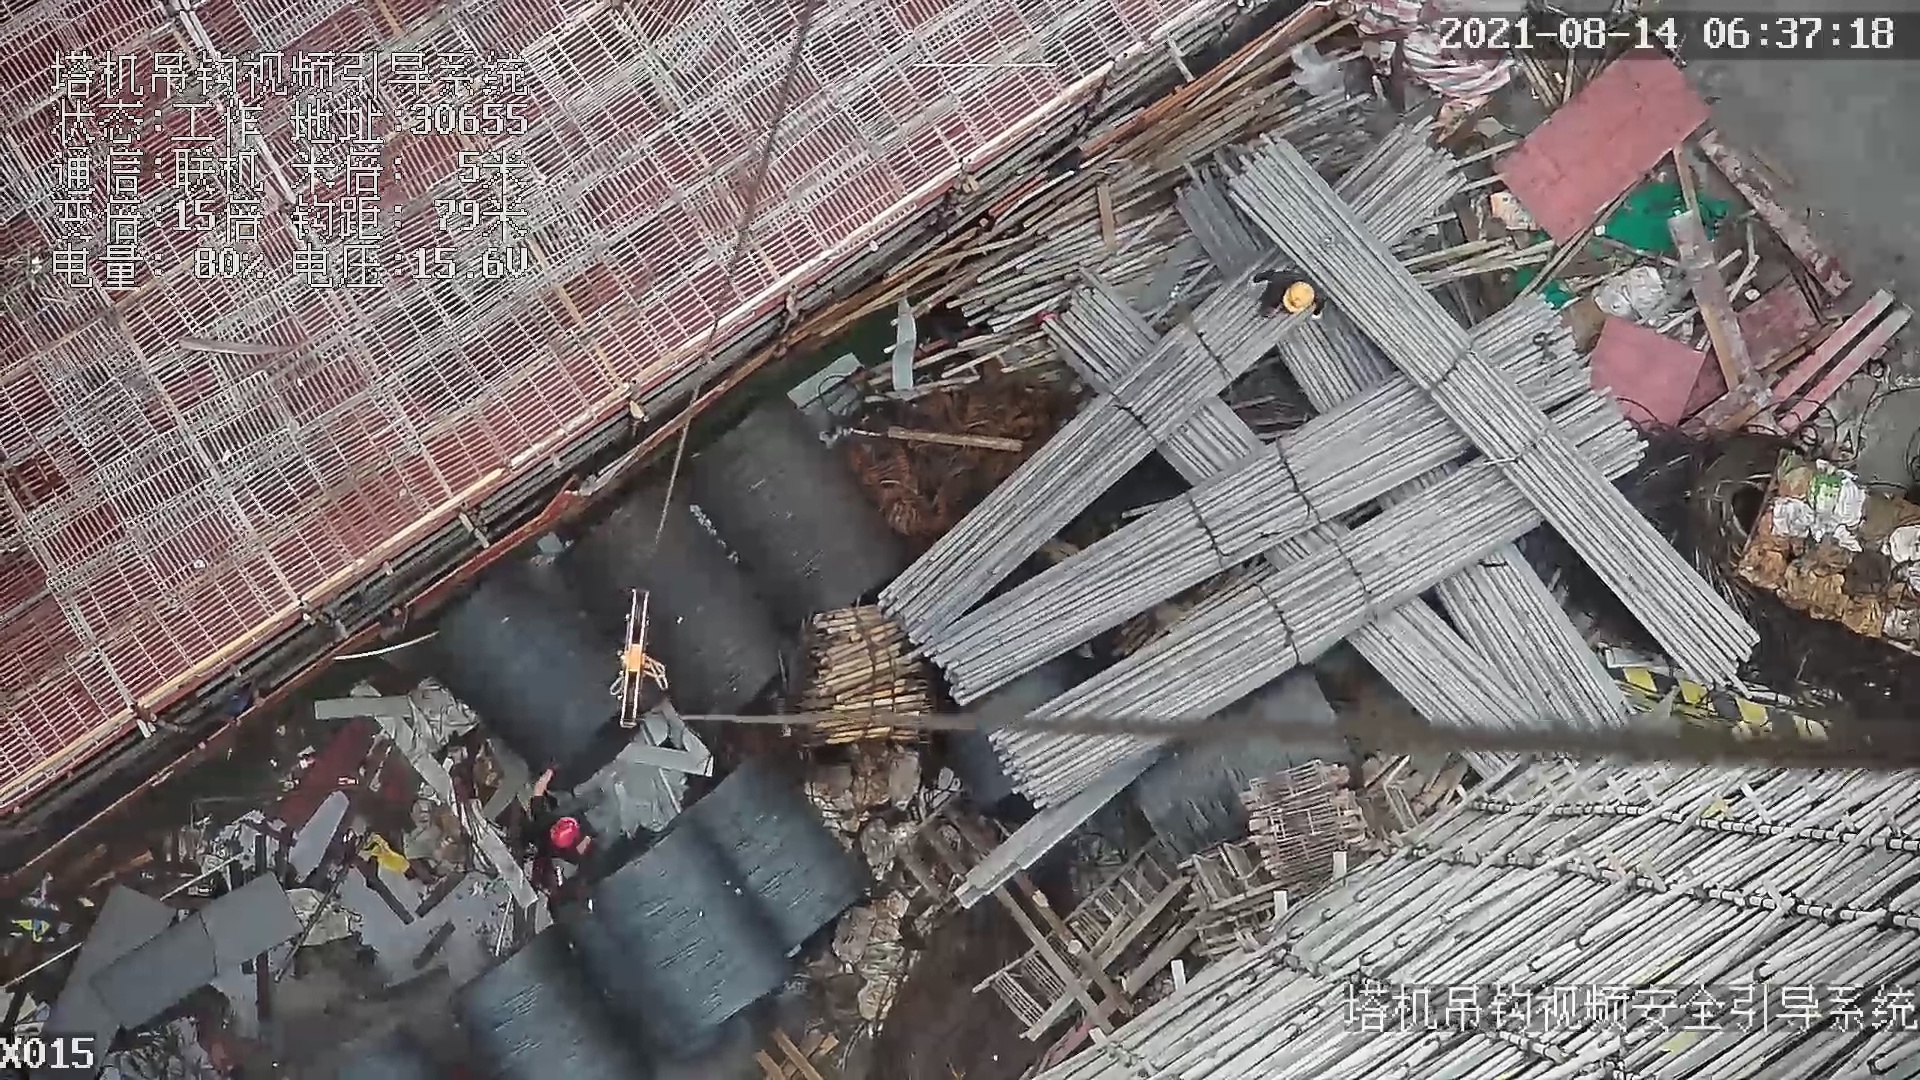helmet: (1281, 278, 1317, 318), (548, 815, 583, 850)
hook: (612, 585, 670, 730)
person: (522, 760, 597, 868), (1245, 259, 1337, 327)
scaffold: (944, 117, 1749, 741), (795, 595, 933, 745)
